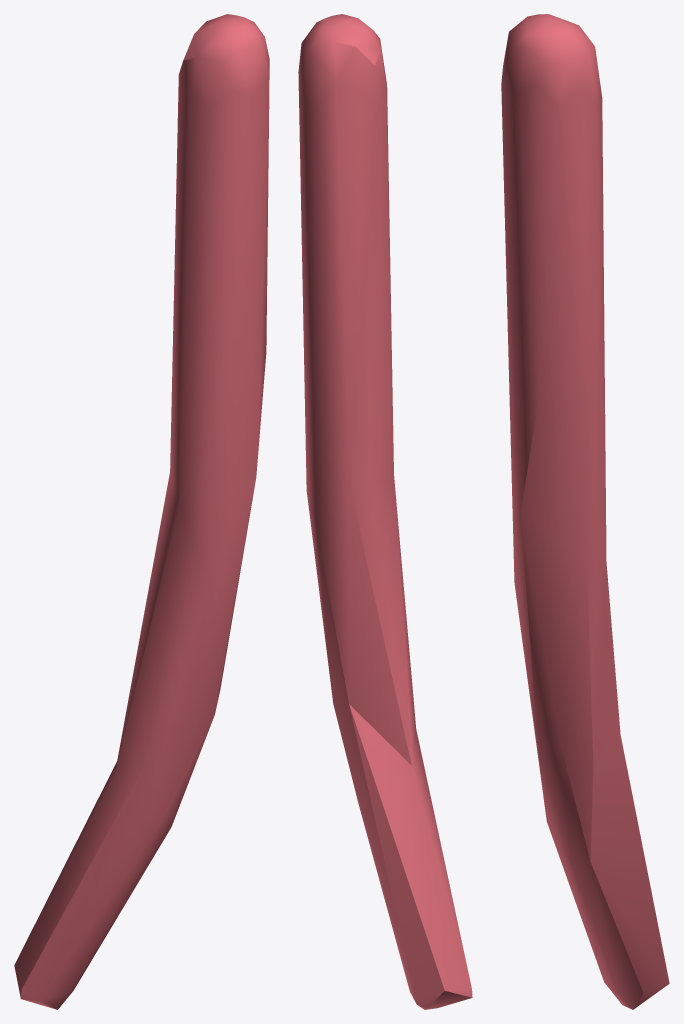
Rendered from fma9428_fj3057.glb.
The picture shows the model from 3 angles, left to right: view 1: azimuth 30°, elevation 25°; view 2: azimuth 150°, elevation 25°; view 3: azimuth 270°, elevation 25°; orthographic projection. The views are drawn at different scales.
Visible parts, largest first — view 1: FMA9428_FJ3057; view 2: FMA9428_FJ3057; view 3: FMA9428_FJ3057.
Boxes of the visible parts, x1,y1,x2,y2 form: FMA9428_FJ3057: (14,14,269,1009); FMA9428_FJ3057: (298,14,472,1009); FMA9428_FJ3057: (501,14,669,1009).
Size of the model in its own units: 0.0074 by 0.033 by 0.00475.
